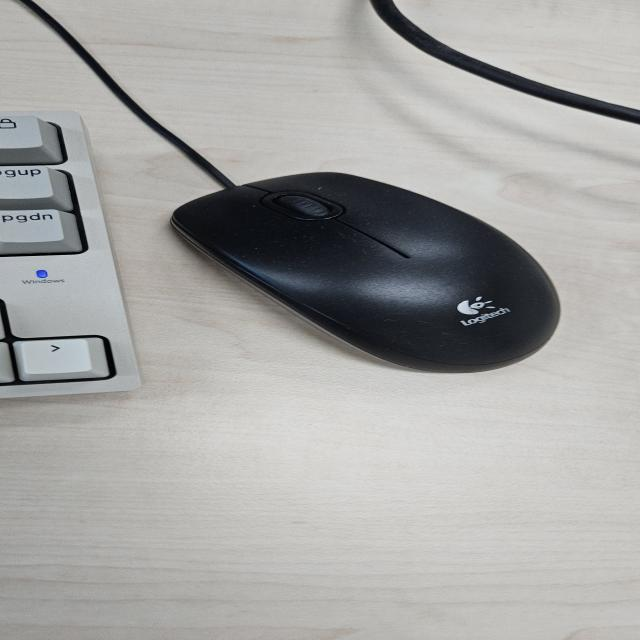Keyboard: (1, 109, 142, 399)
Mouse: (167, 170, 564, 374)
